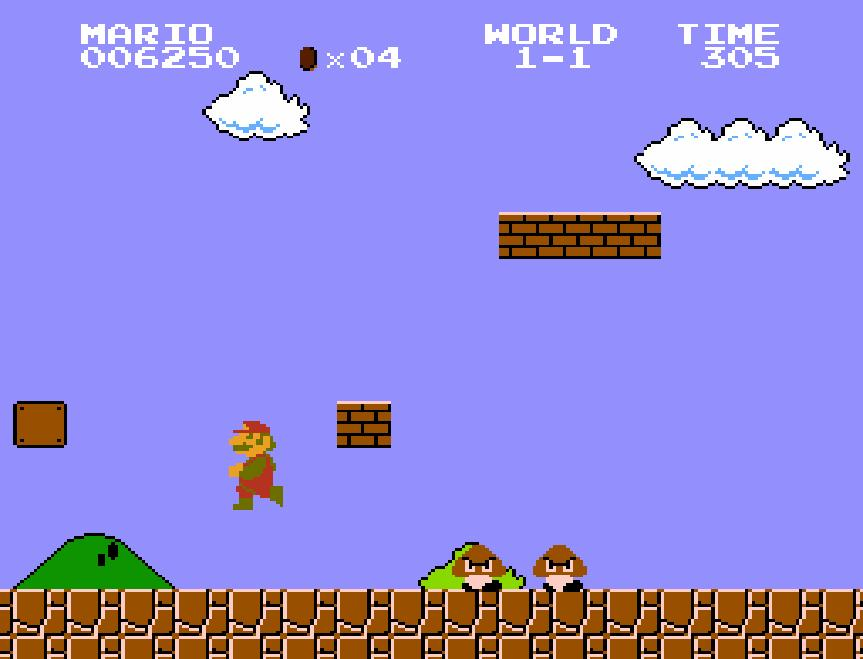big_mario: (227, 414, 284, 512)
